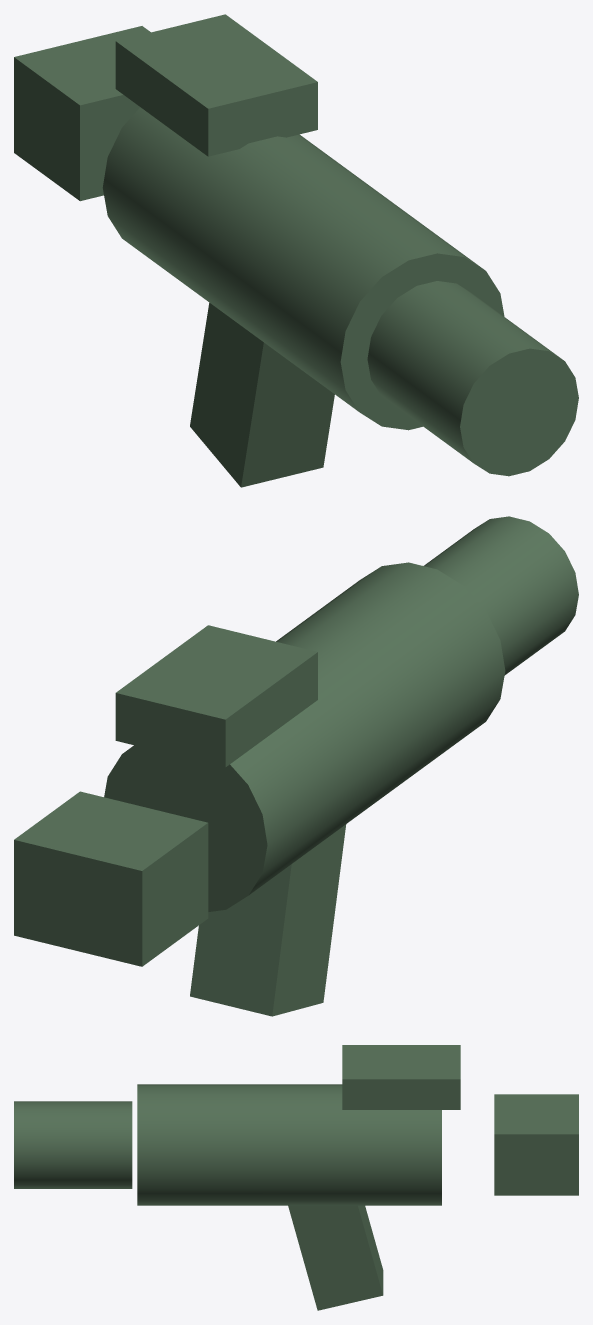
Rendered from special_launcher.gltf.
3 views of the same model, one above another, from view 1: azimuth 30°, elevation 25°; view 2: azimuth 150°, elevation 25°; view 3: azimuth 270°, elevation 25° (orthographic). The views are drawn at different scales.
Visible parts, largest first — view 1: special_launcher; view 2: special_launcher; view 3: special_launcher.
Boxes of the visible parts, <box> form: special_launcher: <box>14,14,578,487</box>; special_launcher: <box>14,516,578,1016</box>; special_launcher: <box>14,1045,578,1310</box>.
Bounding box in the file's own units: 0.36 × 0.7685 × 1.67.
